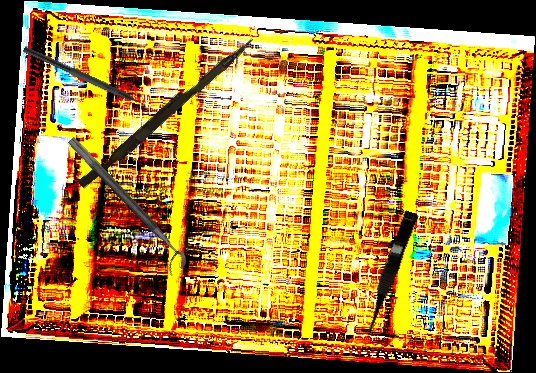Chopper: (18, 45, 157, 120)
Fixation Ring: (56, 135, 192, 278)
Micro Scissor: (356, 208, 420, 340)
Pusher: (77, 30, 256, 194)
